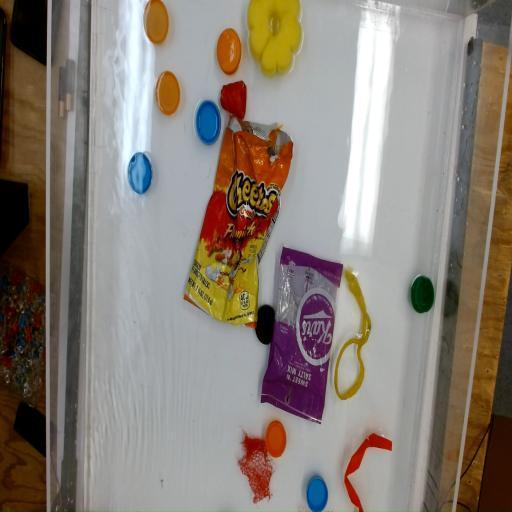Bottle Cap: (154, 70, 182, 118), (410, 273, 438, 319), (218, 26, 242, 74), (128, 150, 153, 196), (195, 100, 221, 144), (144, 0, 168, 46), (306, 472, 330, 512), (266, 419, 286, 460), (255, 304, 276, 342)
Cone Cap: (221, 82, 249, 119)
Netting: (239, 430, 275, 502)
Plastic Bag: (182, 115, 294, 330), (260, 241, 344, 427)
Plastic Strand: (332, 266, 372, 398), (342, 433, 394, 512)
Sponge: (246, 0, 305, 82)
